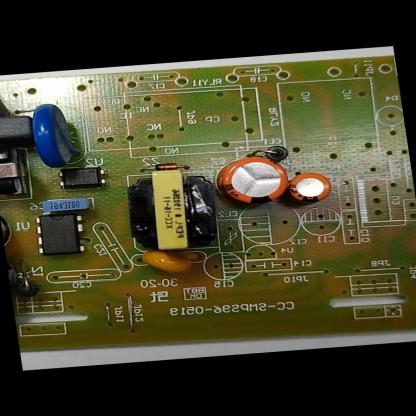Cap1: (210, 149, 294, 212)
Cap2: (280, 169, 343, 207)
Cap4: (5, 249, 40, 310)
MOSFET: (27, 209, 90, 259)
Mov: (22, 98, 88, 172)
Resistor: (0, 81, 15, 118)
Transformer: (119, 165, 226, 257), (0, 140, 34, 202)
